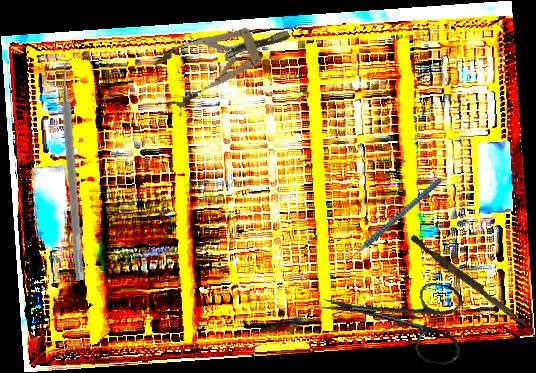Chopper: (322, 177, 461, 276)
Iris Scissors: (313, 266, 470, 367)
Pusher: (407, 234, 532, 328)
Spatula Surgical: (55, 59, 96, 281)
Speculum: (148, 7, 300, 113)
